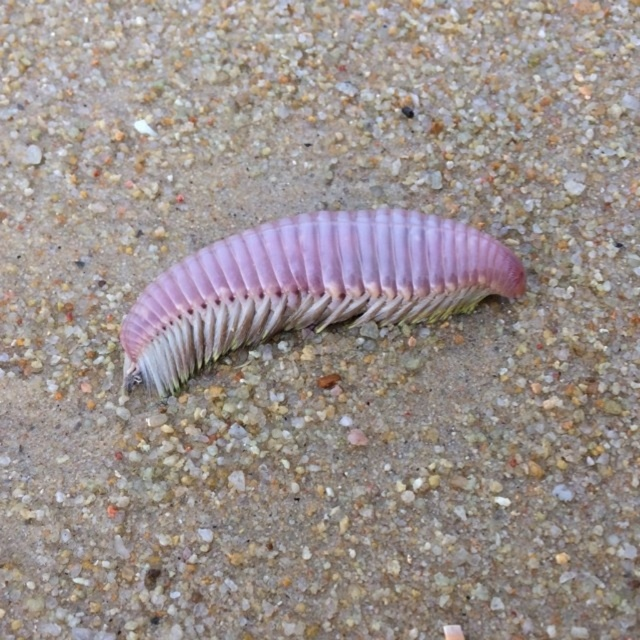Centipede: (117, 205, 528, 392)
